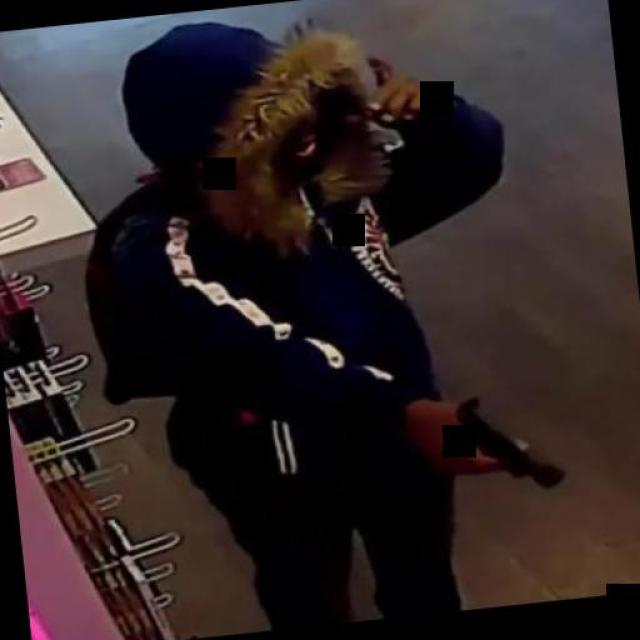gun: (434, 388, 565, 498)
